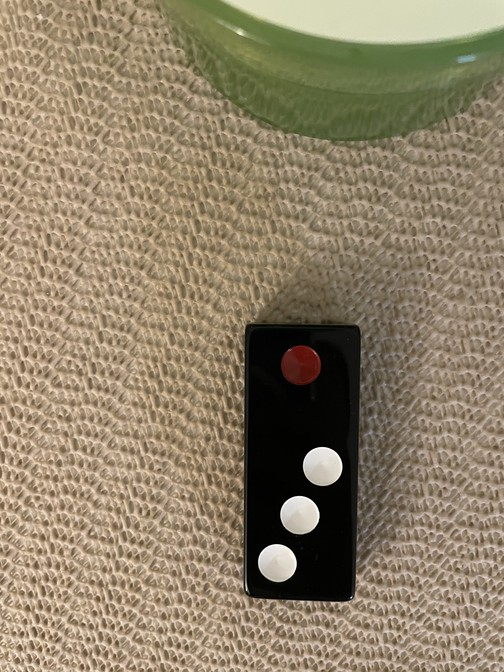goose: (242, 324, 362, 602)
